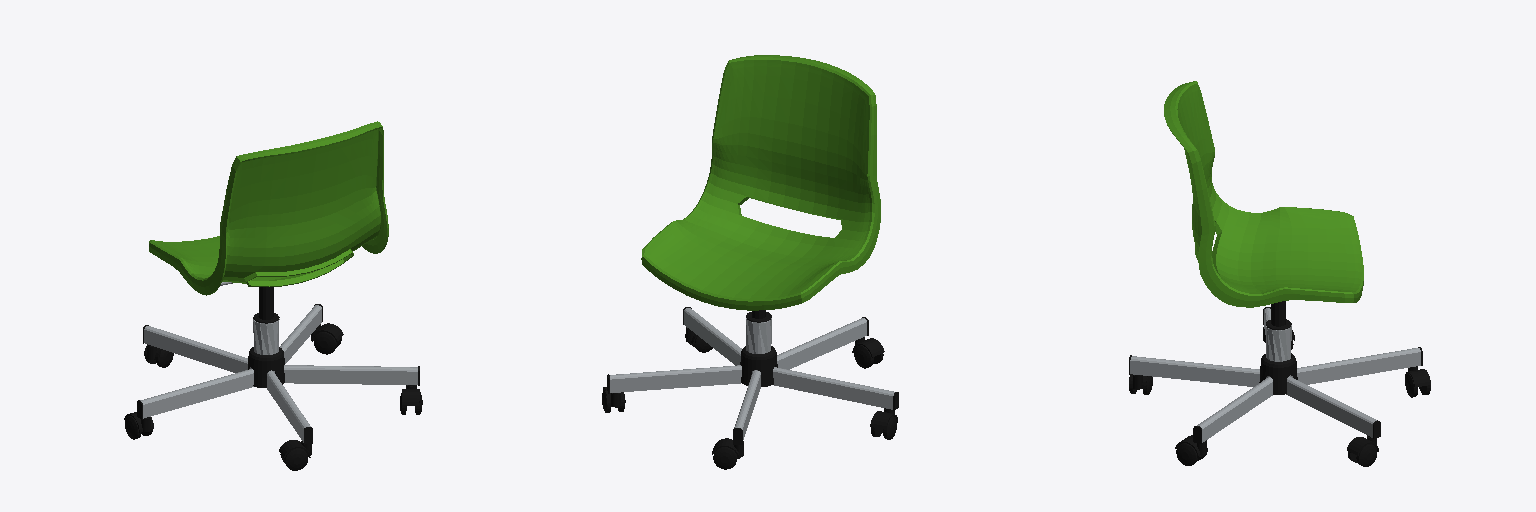
3 renders of one model, left to right at view 1: azimuth 30°, elevation 25°; view 2: azimuth 150°, elevation 25°; view 3: azimuth 270°, elevation 25°, orthographic.
Visible parts, largest first — view 1: Mesh2 Group2 SNILLE_IKEA1 Model, Mesh8 Group6 SNILLE_IKEA1 Model, Mesh1 Group1 SNILLE_IKEA1 Model, Mesh7 Group5 SNILLE_IKEA1 Model, Mesh3 Group3 SNILLE_IKEA1 Model; view 2: Mesh2 Group2 SNILLE_IKEA1 Model, Mesh8 Group6 SNILLE_IKEA1 Model, Mesh1 Group1 SNILLE_IKEA1 Model, Mesh7 Group5 SNILLE_IKEA1 Model; view 3: Mesh2 Group2 SNILLE_IKEA1 Model, Mesh8 Group6 SNILLE_IKEA1 Model, Mesh1 Group1 SNILLE_IKEA1 Model, Mesh7 Group5 SNILLE_IKEA1 Model.
Part boxes in pixels (x1,y1,x2,y2): Mesh2 Group2 SNILLE_IKEA1 Model: (149,121,388,295); Mesh8 Group6 SNILLE_IKEA1 Model: (137,304,419,444); Mesh1 Group1 SNILLE_IKEA1 Model: (248,347,284,387); Mesh7 Group5 SNILLE_IKEA1 Model: (253,319,279,354); Mesh3 Group3 SNILLE_IKEA1 Model: (253,287,279,323); Mesh2 Group2 SNILLE_IKEA1 Model: (641,55,880,310); Mesh8 Group6 SNILLE_IKEA1 Model: (607,307,898,444); Mesh1 Group1 SNILLE_IKEA1 Model: (740,346,777,386); Mesh7 Group5 SNILLE_IKEA1 Model: (746,318,771,353); Mesh2 Group2 SNILLE_IKEA1 Model: (1164,81,1363,307); Mesh8 Group6 SNILLE_IKEA1 Model: (1129,307,1422,443); Mesh1 Group1 SNILLE_IKEA1 Model: (1259,353,1297,394); Mesh7 Group5 SNILLE_IKEA1 Model: (1266,325,1291,361).
Size of the model in its own units: 0.5764 by 0.6647 by 0.5972.